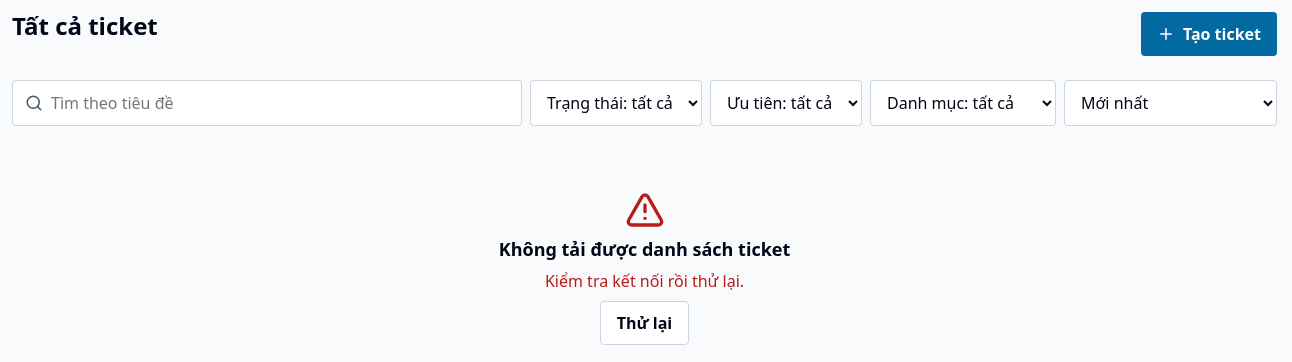
Test: Tickets page › error state with retry
Expected: the message shows "Không tải được danh sách ticket", [499,237,790,261]
Click the button "Thử lại" at [644, 322], box [600,300,689,344]
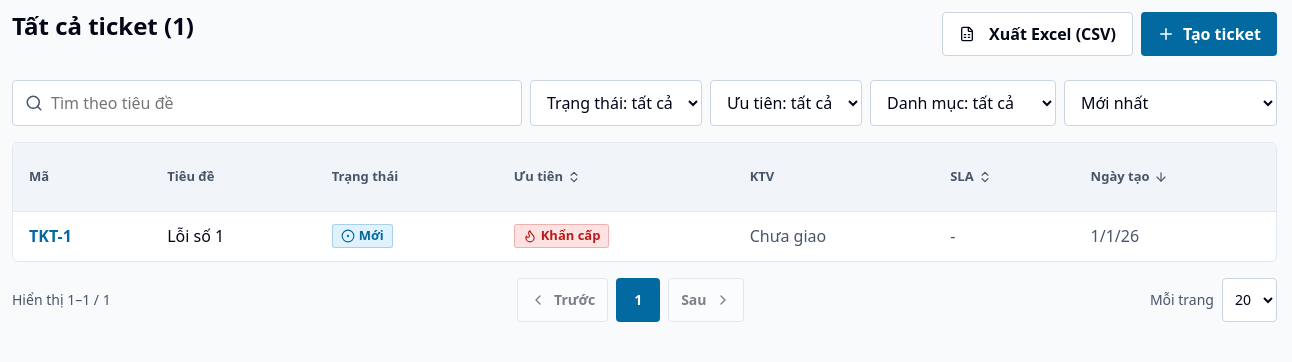
Expected: the link "TKT-1" is shown, [29,225,72,247]
